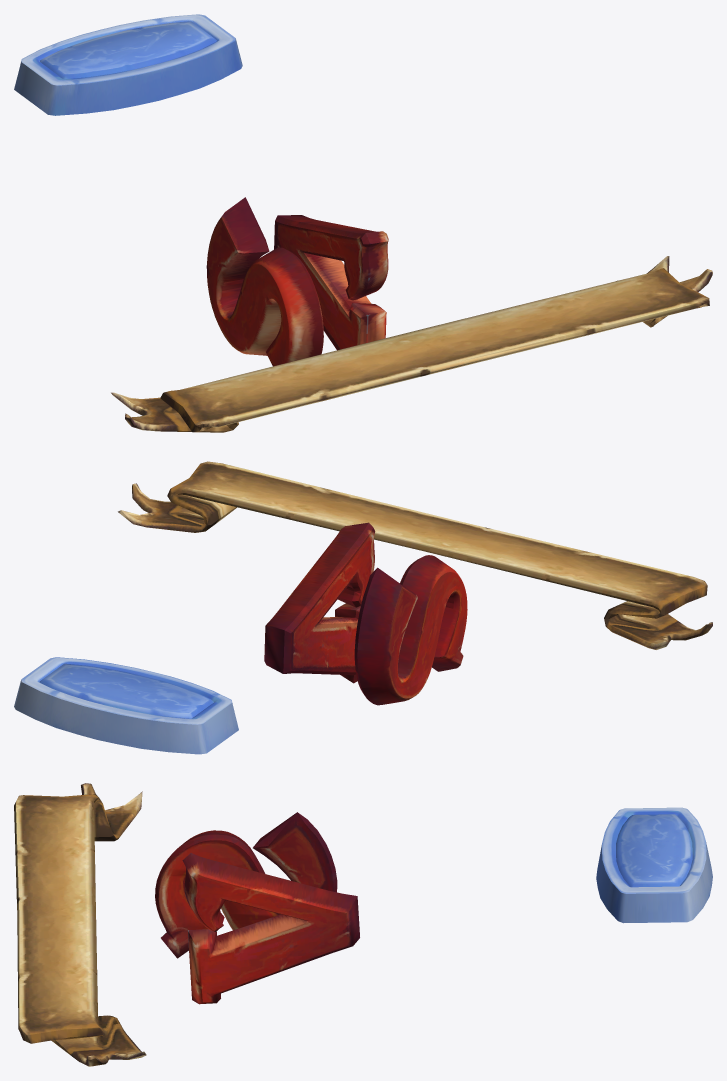
File: btvsbtn.FBX
3 views of the same model, one above another, from view 1: azimuth 30°, elevation 25°; view 2: azimuth 150°, elevation 25°; view 3: azimuth 270°, elevation 25° (orthographic). The views are drawn at different scales.
Parts seen in each view (by area): view 1: 标题, 完成, s, v; view 2: 标题, 完成, s, v; view 3: 标题, v, 完成, s.
Part boxes in pixels (x1,y1,x2,y2): 标题: [111, 256, 712, 432]; 完成: [14, 14, 242, 115]; s: [206, 197, 323, 366]; v: [274, 215, 388, 350]; 标题: [118, 461, 712, 649]; 完成: [14, 657, 238, 754]; s: [354, 555, 467, 705]; v: [264, 522, 375, 683]; 标题: [14, 783, 146, 1066]; v: [182, 853, 359, 1004]; 完成: [596, 807, 712, 923]; s: [155, 812, 337, 958].
Bounding box in the file's own units: 5 × 1.33 × 5.36.
